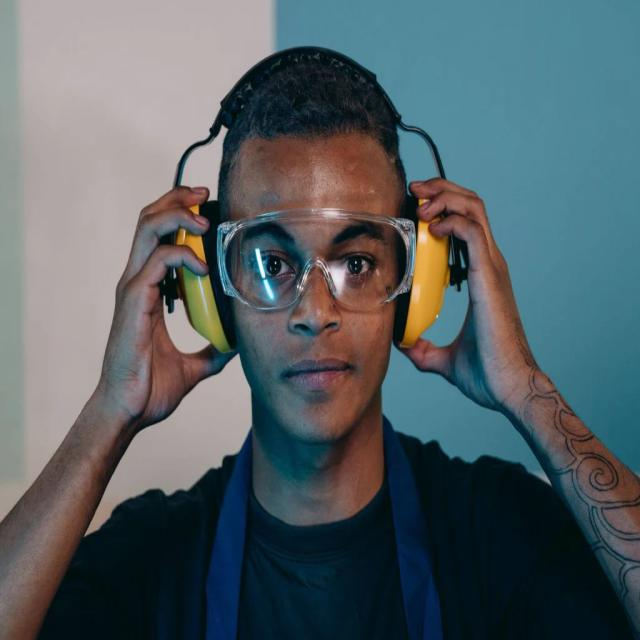Ear Muffs: (160, 40, 473, 368), (160, 179, 242, 359), (398, 164, 458, 373)
Safety Glasses: (217, 208, 416, 318)
